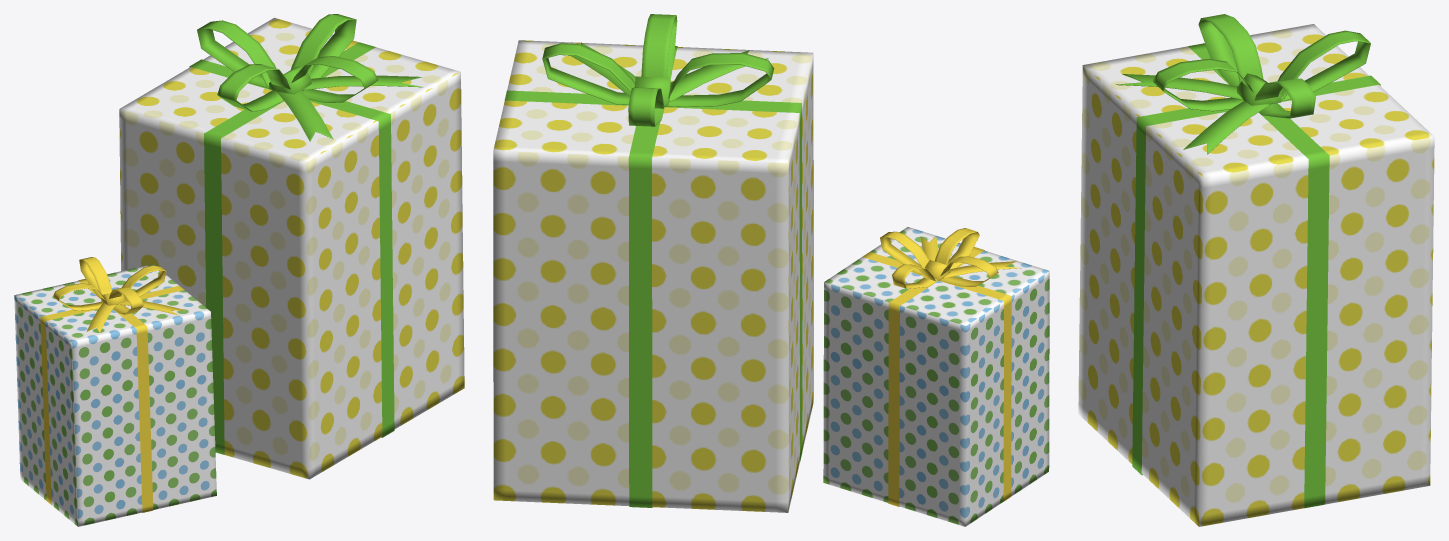
Rendered from Paket_5.glb.
3 renders of one model, left to right at view 1: azimuth 30°, elevation 25°; view 2: azimuth 150°, elevation 25°; view 3: azimuth 270°, elevation 25°, orthographic. The views are drawn at different scales.
Parts seen in each view (by area): view 1: Paket.005; view 2: Paket.005; view 3: Paket.005.
Part boxes in pixels (bbox=[...]): Paket.005: bbox=[14, 14, 464, 526]; Paket.005: bbox=[493, 14, 1049, 526]; Paket.005: bbox=[1078, 14, 1434, 526].
Bounding box in the file's own units: 1.37 × 1.09 × 0.8828.
4 materials, 2 textured.
